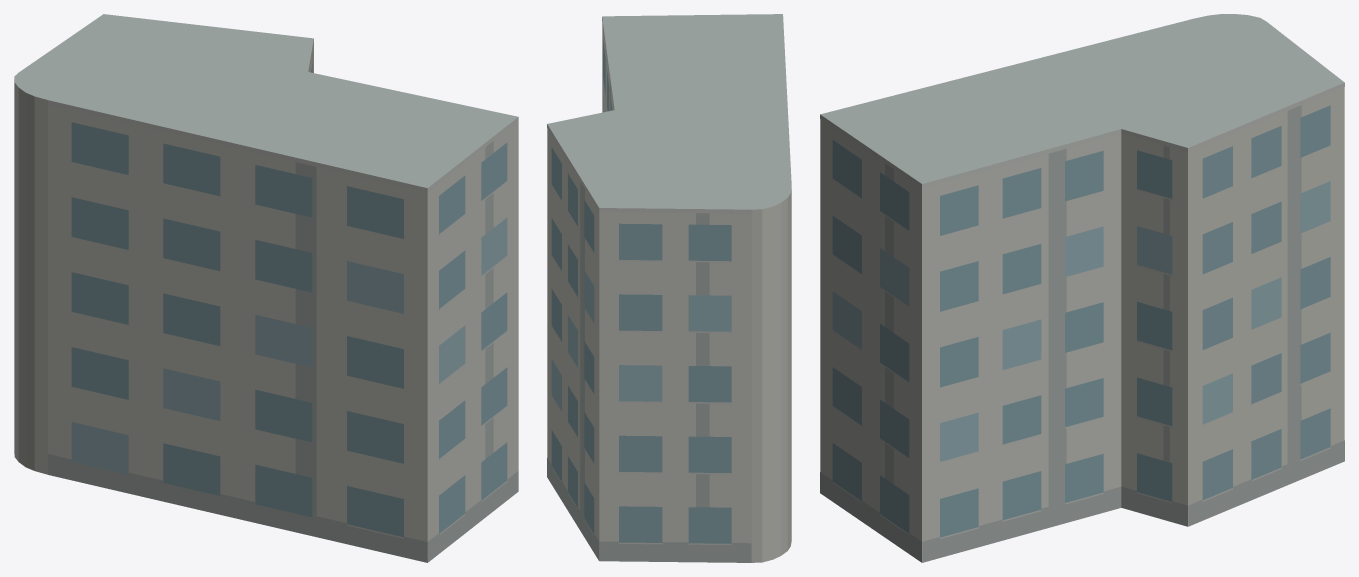
File: survey-upis-32847787.glb
3 renders of one model, left to right at view 1: azimuth 30°, elevation 25°; view 2: azimuth 150°, elevation 25°; view 3: azimuth 270°, elevation 25°, orthographic. The views are drawn at different scales.
Parts seen in each view (by area): view 1: survey-upis-32847787.tmp; view 2: survey-upis-32847787.tmp; view 3: survey-upis-32847787.tmp.
Boxes of the visible parts, left/top/right/bottom form: survey-upis-32847787.tmp: left=14, top=14, right=518, bottom=562; survey-upis-32847787.tmp: left=547, top=14, right=791, bottom=562; survey-upis-32847787.tmp: left=820, top=14, right=1344, bottom=562.
Size of the model in its own units: 19.85 by 20.6 by 25.87.
